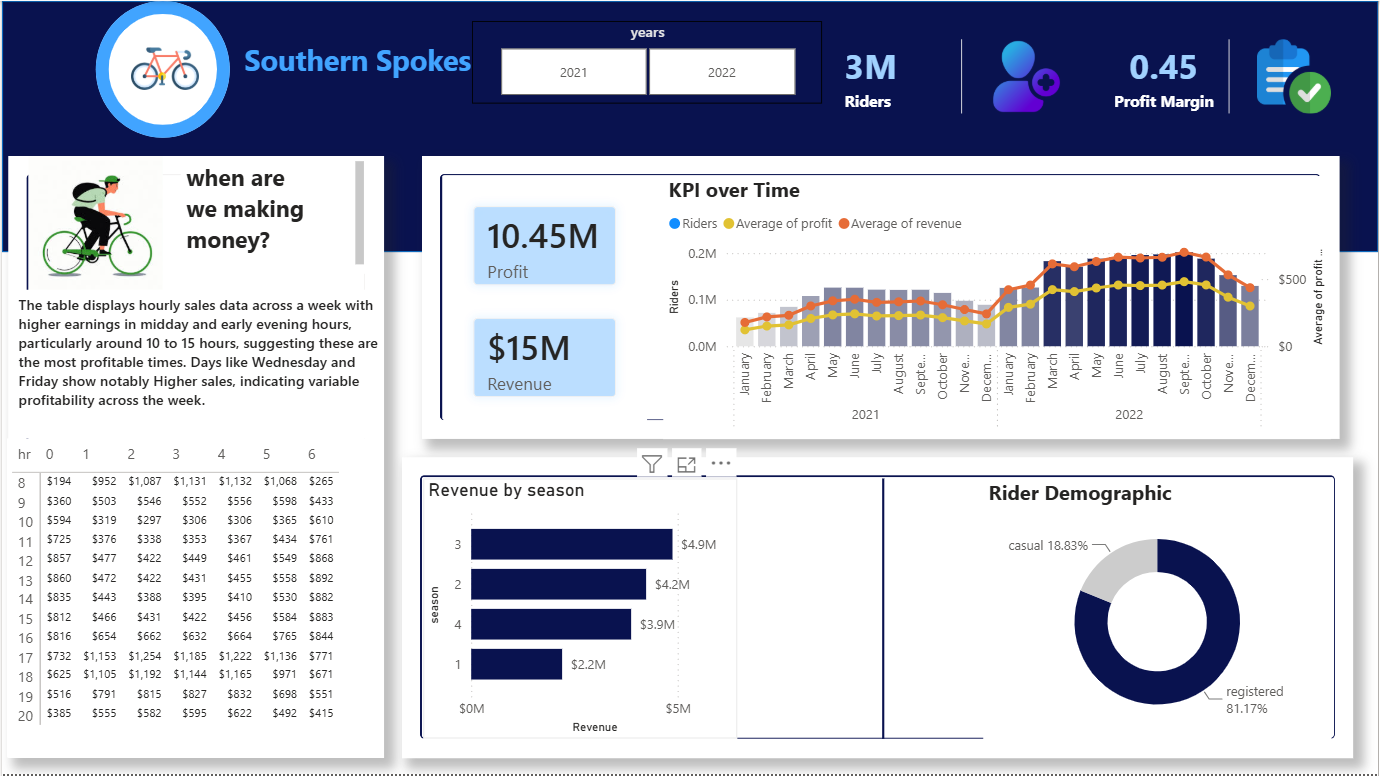

This screenshot's page, from the dashboard's own definition file:
{"tool":"powerbi","page":{"name":"Dashboard","canvas":[1280,720],"ordinal":0},"visuals":[{"type":"shape","box":[0,0,1280.3,233.6],"z":0},{"type":"cardVisual","fields":{"Data":["Min(Query1.riders)"]},"box":[391.1,144.1,853.5,263.5],"z":1000},{"type":"cardVisual","fields":{"Data":["Min(Query1.riders)"]},"box":[5.5,144.1,349.9,559.9],"z":2000},{"type":"cardVisual","fields":{"Data":["Min(Query1.riders)"]},"box":[371.9,424,885.1,279.9],"z":3000},{"type":"pivotTable","fields":{"Values":["Avg(Query1.revenue)"],"Columns":["Query1.weekday"],"Rows":["Query1.hr"]},"box":[4.9,407.2,349.7,297.1],"z":4000},{"type":"image","box":[0,144.1,174.3,124.9],"z":5000},{"type":"textbox","box":[166,144.1,175.6,109.8],"z":6000},{"type":"textbox","box":[11,269,344.4,138.6],"z":7000},{"type":"lineClusteredColumnComboChart","title":"KPI over Time","fields":{"Y":["Sum(Query1.riders)"],"Category":["Query1.dteday.Variation.Date Hierarchy.Year","Query1.dteday.Variation.Date Hierarchy.Month"],"Y2":["Avg(Query1.profit)","Avg(Query1.revenue)"]},"box":[615.1,162.6,621.2,244.6],"z":8000},{"type":"clusteredBarChart","fields":{"Category":["Query1.season"],"Y":["Sum(Query1.revenue)"]},"box":[391.3,443.9,292.3,242.1],"z":9000},{"type":"donutChart","title":"Rider Demographic","fields":{"Category":["Query1.rider_type"],"Y":["Sum(Query1.riders)"]},"box":[912.2,443.9,324.1,242.1],"z":10000},{"type":"shape","box":[737.4,443.9,165.1,242.1],"z":11000},{"type":"cardVisual","title":"KPI over Time","fields":{"Data":["Sum(Query1.profit)","Sum(Query1.revenue)"]},"box":[410.9,162.6,189.5,234.8],"z":12000},{"type":"cardVisual","fields":{"Data":["Sum(Query1.riders)","Query1.Profit Margin"]},"box":[754.5,18.3,525.8,103.9],"z":13000},{"type":"shape","box":[86.8,0,124.7,127.2],"z":14000},{"type":"image","box":[48.9,31.8,205.4,63.6],"z":15000},{"type":"textbox","box":[211.6,31.8,238.5,63.6],"z":16000},{"type":"slicer","title":"years","fields":{"Values":["Query1.Years"]},"box":[437.8,18.3,325.3,77],"z":17000}]}

Visuals, with their boxes in screenshot pixels (x1, y1, x2, y2), scaled from the page's 1280x720 canvas onto the 1380x776 screenshot:
shape: left=0, top=0, right=1379, bottom=252
cardVisual - Min(Query1.riders): left=422, top=155, right=1342, bottom=439
cardVisual - Min(Query1.riders): left=6, top=155, right=383, bottom=759
cardVisual - Min(Query1.riders): left=401, top=457, right=1355, bottom=759
pivotTable - Avg(Query1.revenue) x Query1.weekday: left=5, top=439, right=382, bottom=759
image: left=0, top=155, right=188, bottom=290
textbox: left=179, top=155, right=368, bottom=274
textbox: left=12, top=290, right=383, bottom=439
"KPI over Time" lineClusteredColumnComboChart: left=663, top=175, right=1333, bottom=439
clusteredBarChart - Query1.season x Sum(Query1.revenue): left=422, top=478, right=737, bottom=739
"Rider Demographic" donutChart: left=983, top=478, right=1333, bottom=739
shape: left=795, top=478, right=973, bottom=739
"KPI over Time" cardVisual: left=443, top=175, right=647, bottom=428
cardVisual - Sum(Query1.riders) x Query1.Profit Margin: left=813, top=20, right=1379, bottom=132
shape: left=94, top=0, right=228, bottom=137
image: left=53, top=34, right=274, bottom=103
textbox: left=228, top=34, right=485, bottom=103
"years" slicer: left=472, top=20, right=823, bottom=103
